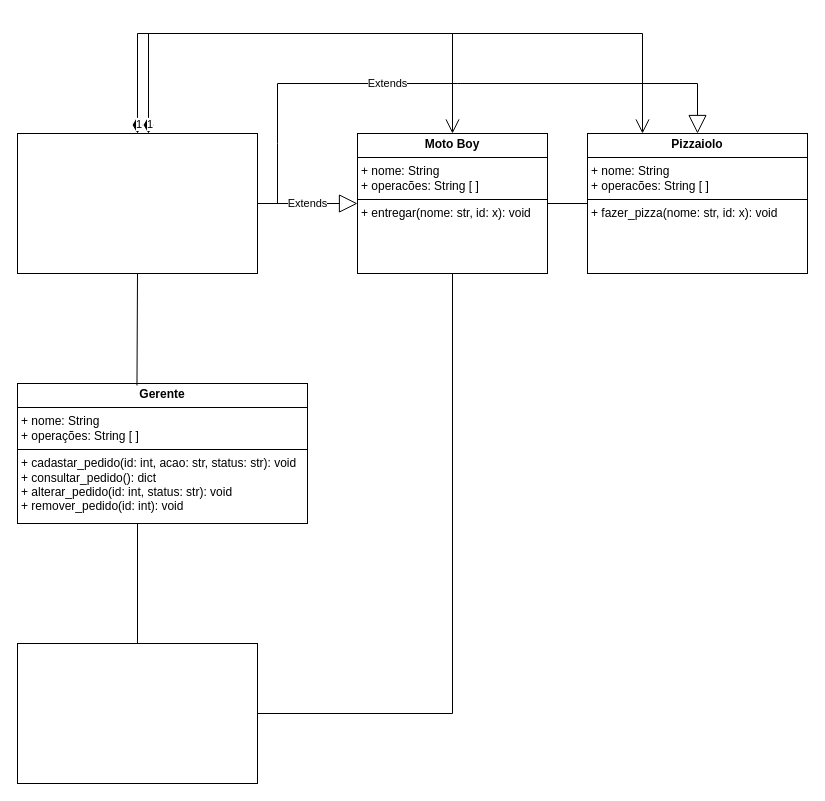
This 825x801 diagram has some shape labels left out. Here are the shapes that lost their labels. From the top down, the centre of each, then its label:
At [137,203]: "Funcionário + nome: String + operacões: String [ ]".
At [137,713]: "Cliente + nome: String + pedidos: String [ ] + pedir()".
